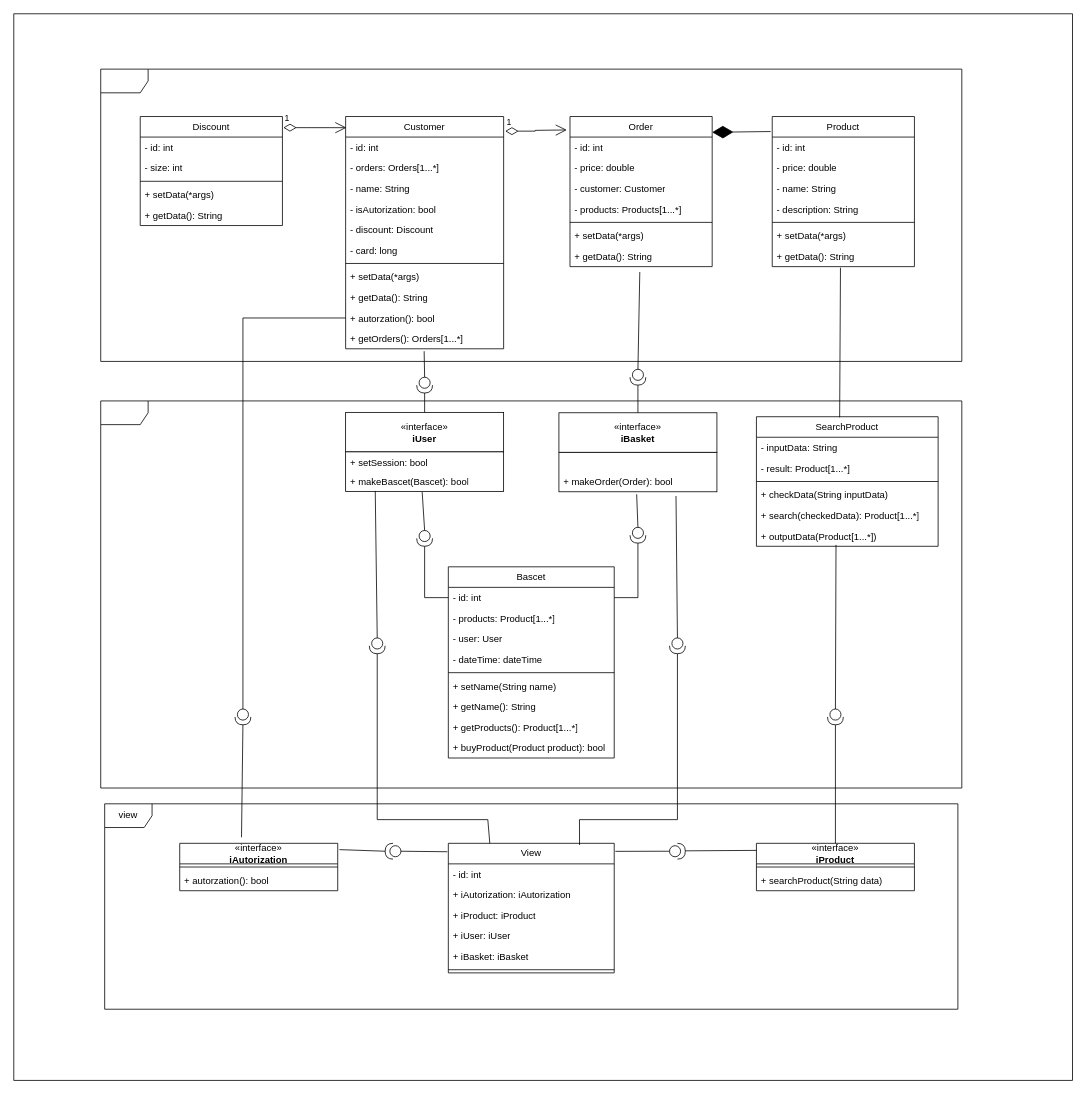
The diagram is 1086 pixels wide and 1094 high, and some of its shapes have lost their labels. The shapes that lost their labels are listed below. From the top down, each one's box as (x1, y1, x2, y2) in pixels, then its label:
(100, 68, 962, 361): dataBase
(100, 400, 962, 788): бизнес логика
